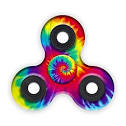fidget_spinner: (2, 2, 124, 120)
